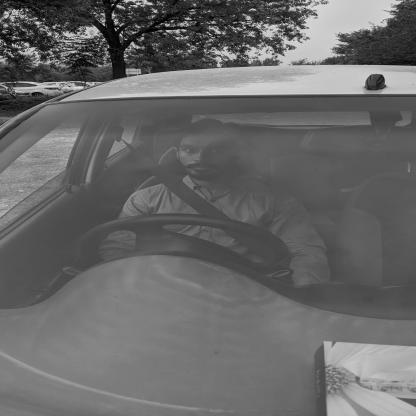seatbelt: (128, 118, 262, 216)
